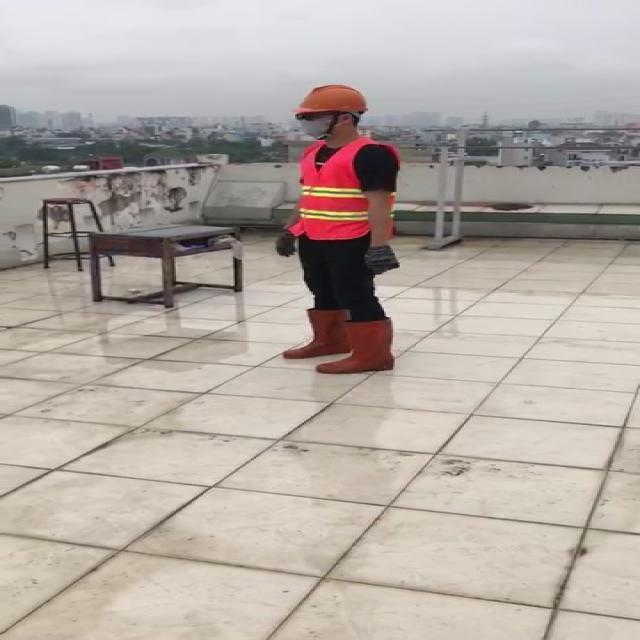gloves: (363, 244, 400, 277)
goggles: (293, 112, 333, 122)
helmet: (290, 83, 372, 113)
safety_vest: (284, 139, 398, 236)
